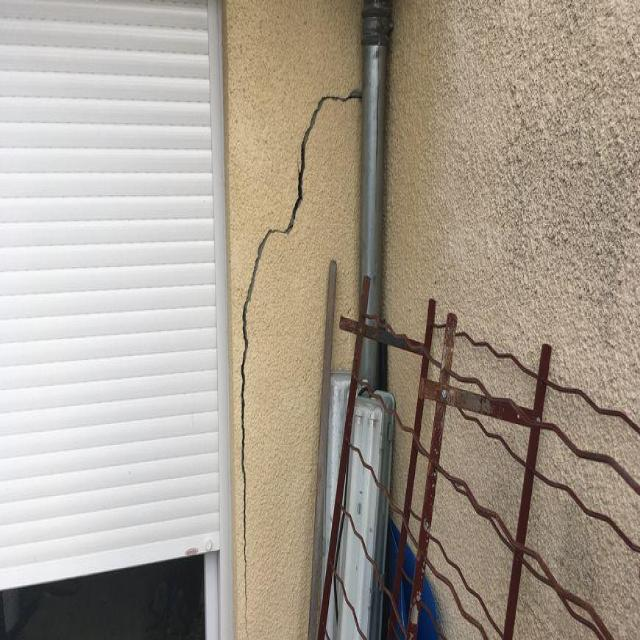crack: (240, 89, 365, 463)
